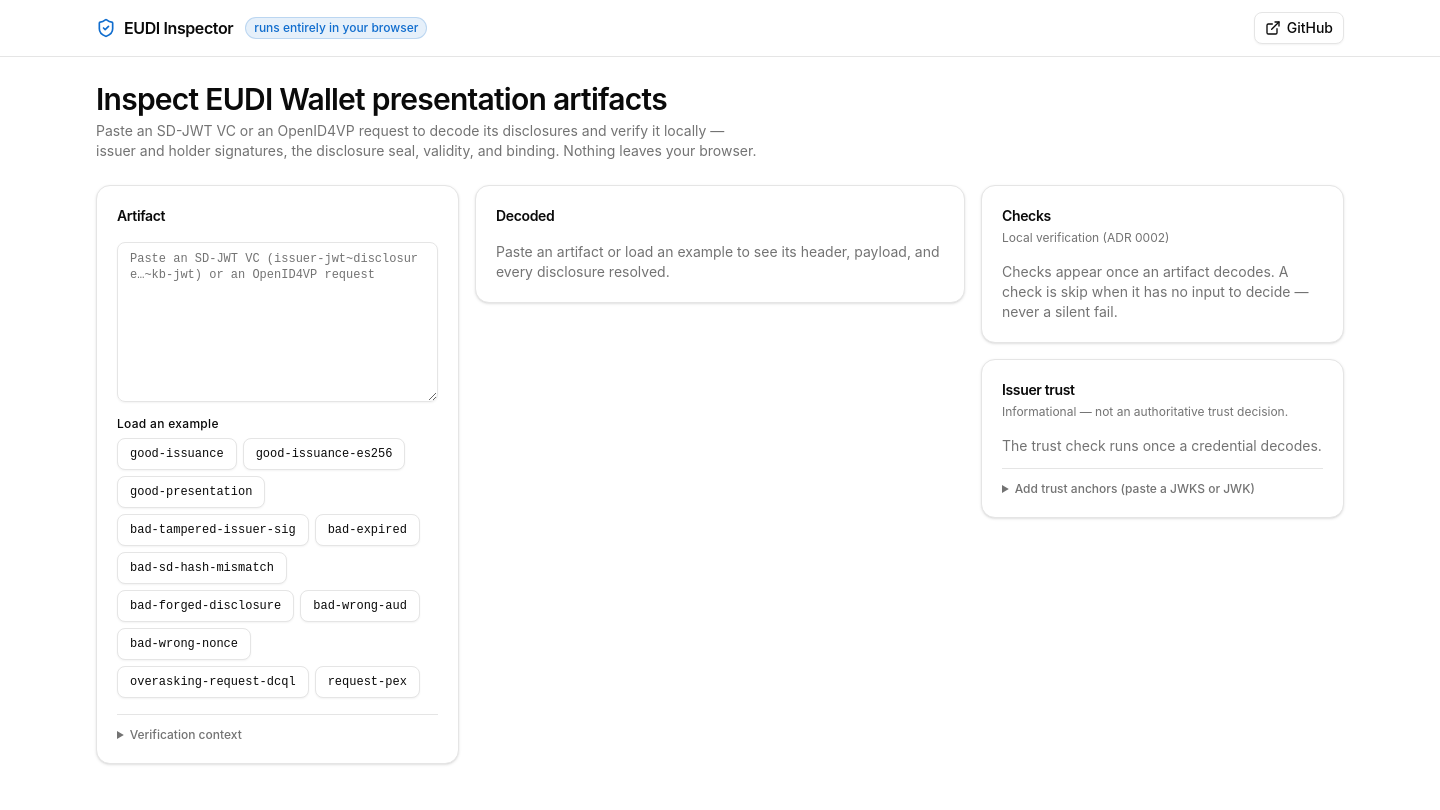
it: App › shows an informational issuer-trust result for a snapshot issuer
Click the button "good-issuance" at (177, 454), box x1=117 y1=438 x2=237 y2=470
(page scrolled)
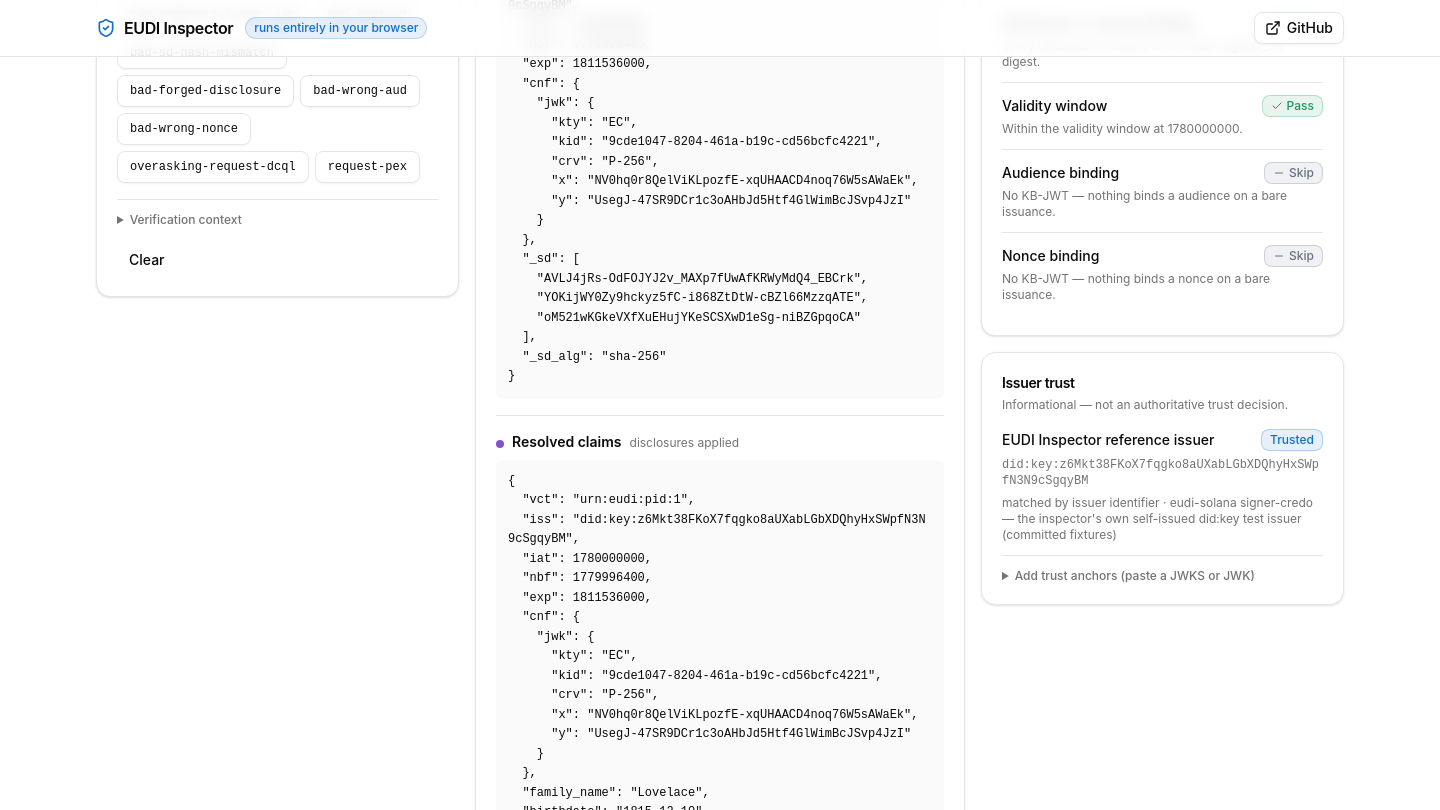
Expected: the text "Informational — not an authoritative trust decision." is shown, x1=1002 y1=397 x2=1323 y2=413
Expected: the text "EUDI Inspector reference issuer" is shown, x1=1002 y1=430 x2=1214 y2=450
Expected: the text "Trusted" is shown, x1=1261 y1=429 x2=1323 y2=451
